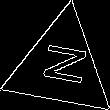N_W: (33, 42, 88, 91)
